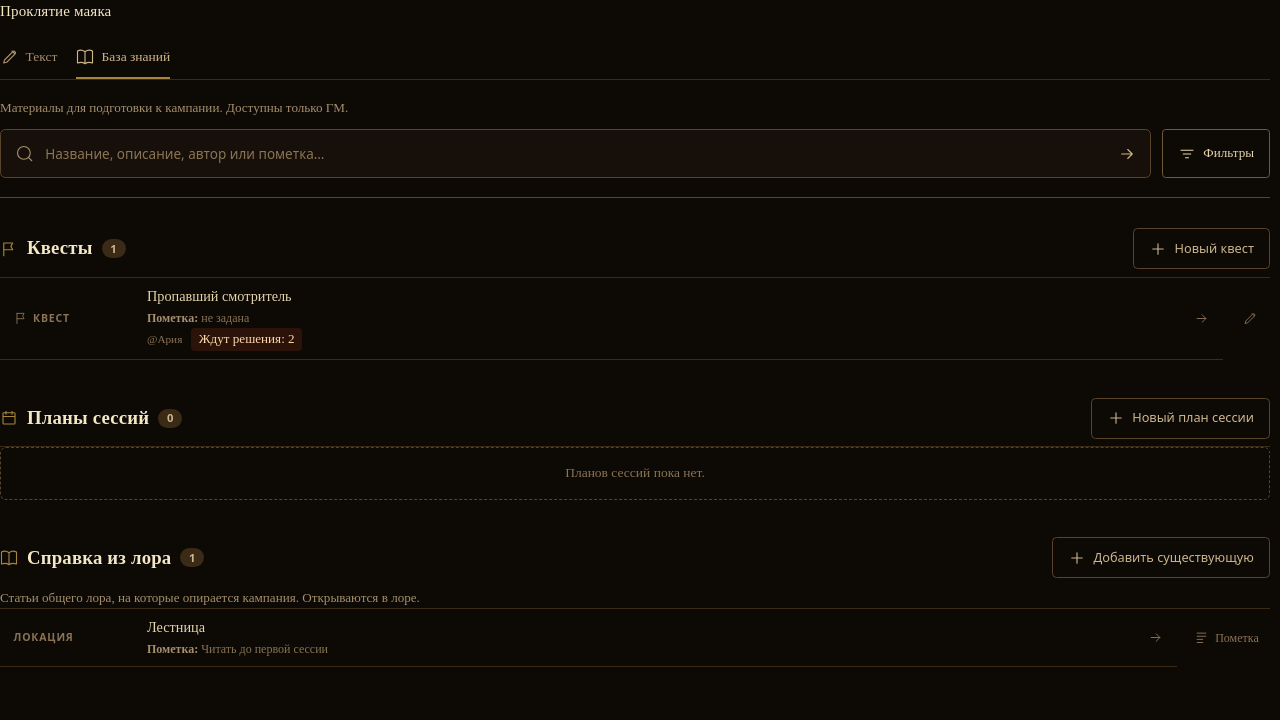
public campaign knowledge base › opens the existing article picker with the new action name
The image size is (1280, 720).
Click the button "Добавить существующую" at (1161, 558), box [1052, 537, 1270, 578]
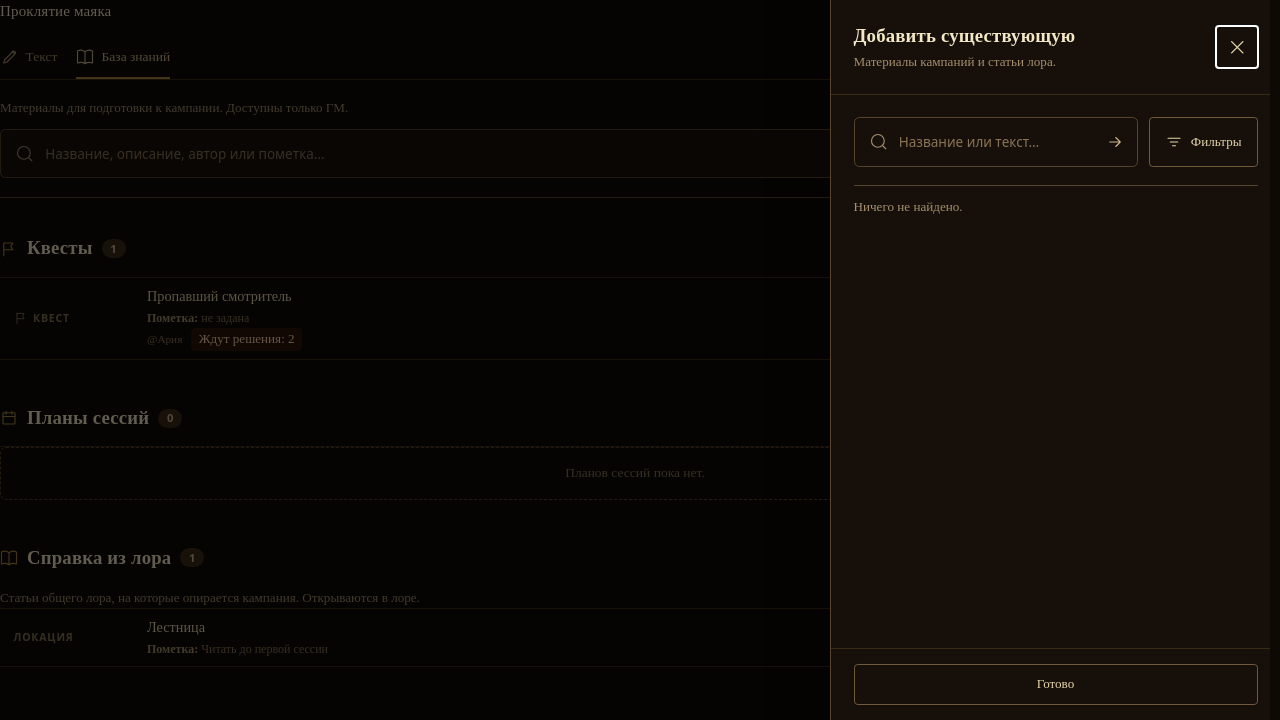
Expected: the dialog "Добавить существующую" is shown, [830, 0, 1279, 719]
Expected: the search field named "Поиск статей" is shown, [899, 118, 1081, 166]
